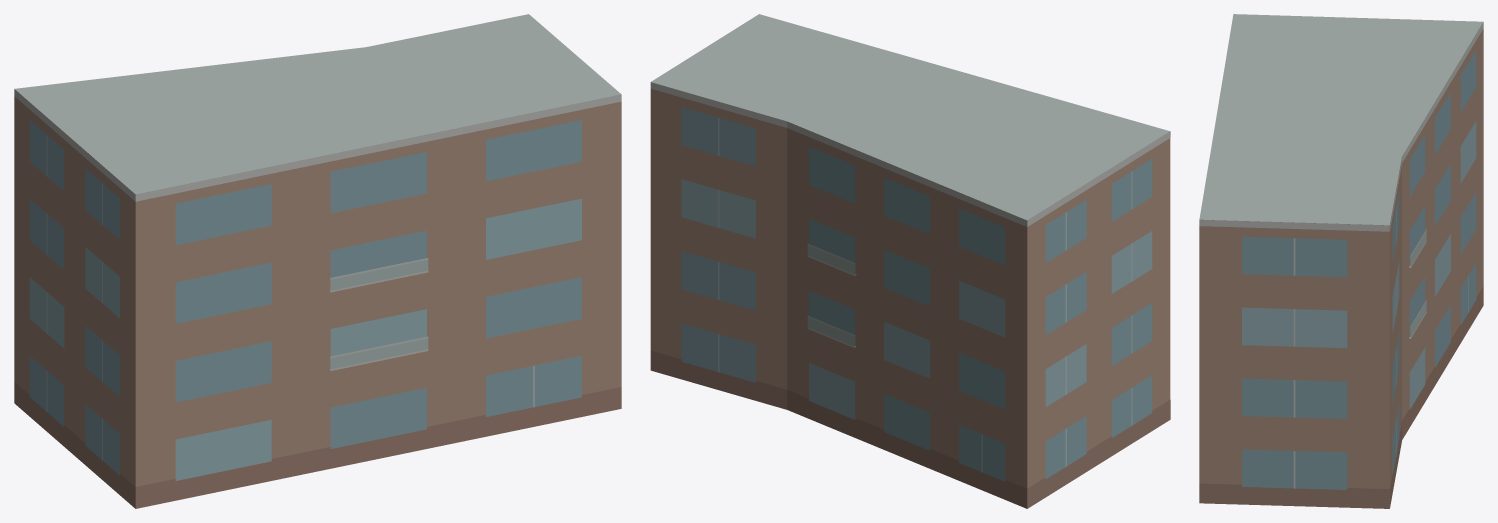
Rendered from survey-upis-32931183.glb.
3 renders of one model, left to right at view 1: azimuth 30°, elevation 25°; view 2: azimuth 150°, elevation 25°; view 3: azimuth 270°, elevation 25°, orthographic. The views are drawn at different scales.
Parts seen in each view (by area): view 1: survey-upis-32931183.tmp; view 2: survey-upis-32931183.tmp; view 3: survey-upis-32931183.tmp.
Part boxes in pixels (bbox=[...]): survey-upis-32931183.tmp: bbox=[14, 14, 621, 508]; survey-upis-32931183.tmp: bbox=[650, 14, 1170, 508]; survey-upis-32931183.tmp: bbox=[1199, 14, 1483, 508].
Size of the model in its own units: 17.11 by 10.7 by 9.73.
